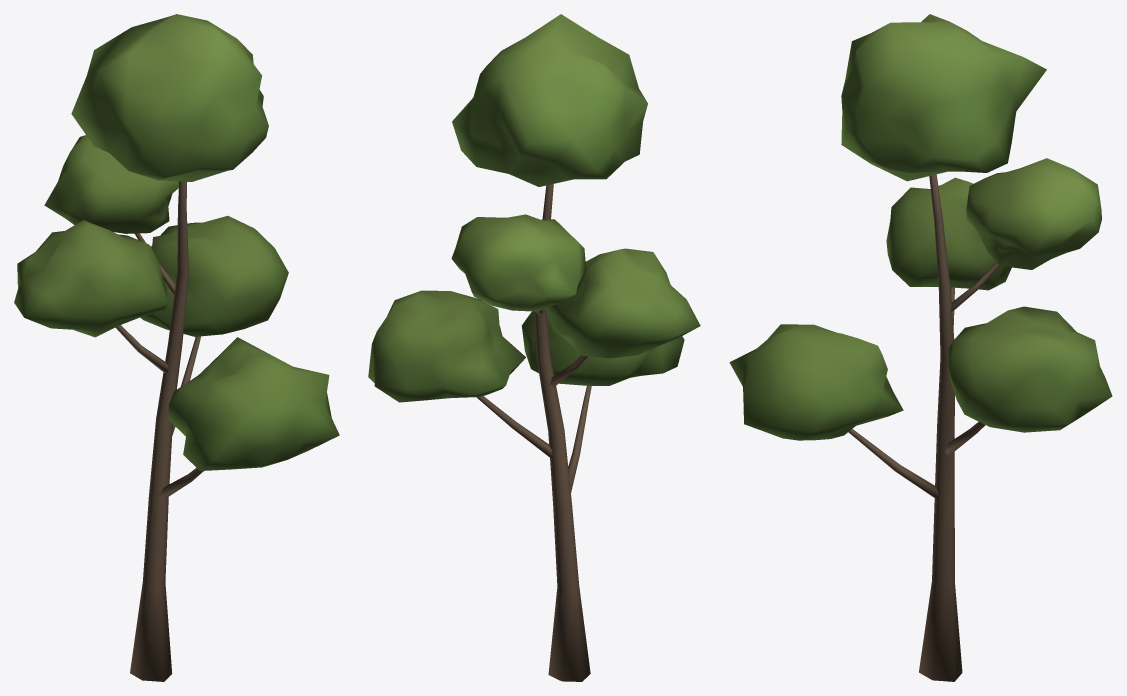
The model's file is sapling.glb.
3 renders of one model, left to right at view 1: azimuth 30°, elevation 25°; view 2: azimuth 150°, elevation 25°; view 3: azimuth 270°, elevation 25°, orthographic. The views are drawn at different scales.
Parts seen in each view (by area): view 1: SaplingLeaves, Sapling; view 2: SaplingLeaves, Sapling; view 3: SaplingLeaves, Sapling.
Boxes of the visible parts, box(x1,y1,x2,y2) form: SaplingLeaves: box(14, 14, 339, 470); Sapling: box(115, 181, 203, 681); SaplingLeaves: box(368, 14, 700, 402); Sapling: box(477, 184, 591, 681); SaplingLeaves: box(729, 14, 1112, 440); Sapling: box(848, 174, 999, 681).
Size of the model in its own units: 0.4016 by 0.891 by 0.4608.
